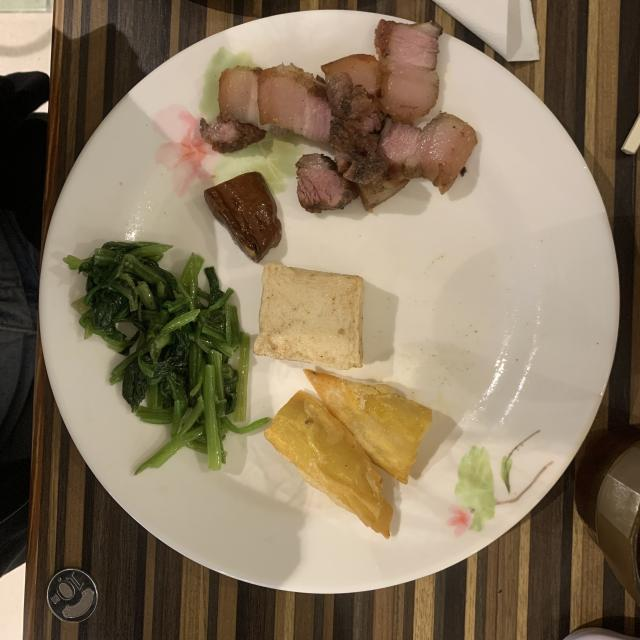coin: (46, 569, 98, 622)
creamy tofu -without sauce-: (254, 262, 364, 370)
firm tofu: (204, 171, 281, 262)
grilled pork: (200, 20, 476, 211)
mustard greens: (62, 241, 269, 474)
